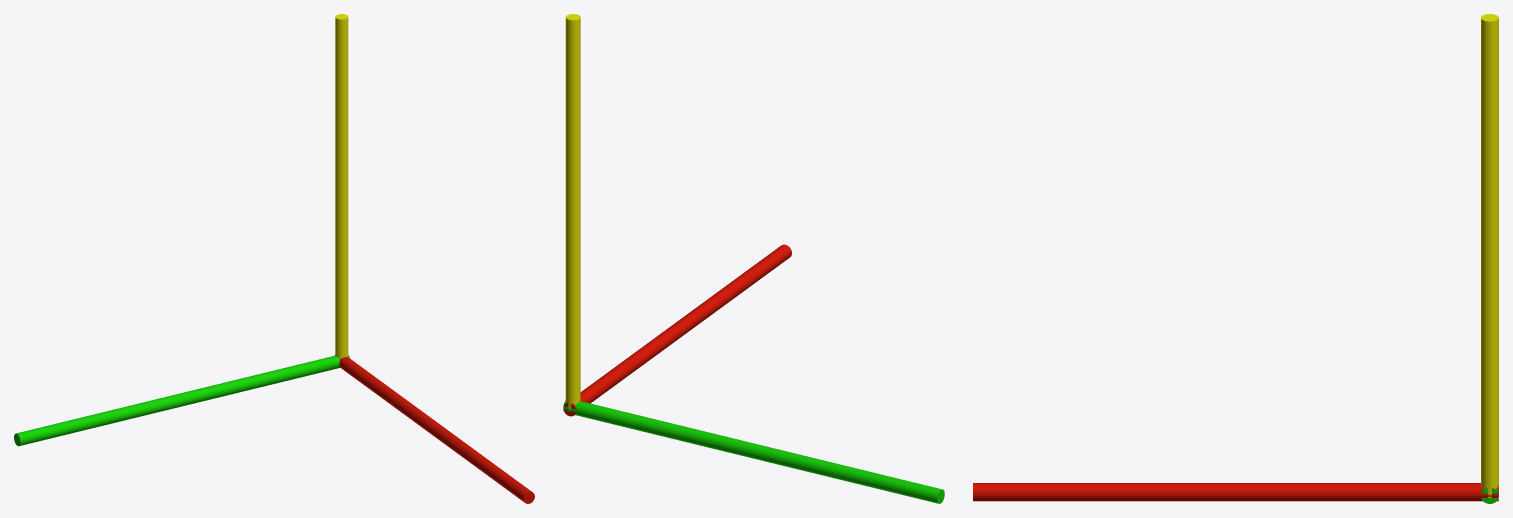
The model's file is 3D_Orientation.fbx.
3 views of the same model, side by side, from view 1: azimuth 30°, elevation 25°; view 2: azimuth 150°, elevation 25°; view 3: azimuth 270°, elevation 25° (orthographic). The views are drawn at different scales.
Parts seen in each view (by area): view 1: Cylinder, Cylinder.001, Cylinder.002; view 2: Cylinder, Cylinder.001, Cylinder.002; view 3: Cylinder.002, Cylinder.
Part boxes in pixels (<box>): Cylinder: <box>335,14,348,358</box>; Cylinder.001: <box>14,355,349,446</box>; Cylinder.002: <box>334,355,534,503</box>; Cylinder: <box>565,14,580,411</box>; Cylinder.001: <box>563,400,944,503</box>; Cylinder.002: <box>563,244,791,416</box>; Cylinder.002: <box>973,483,1498,501</box>; Cylinder: <box>1481,14,1498,497</box>.
Size of the model in its own units: 678 by 686 by 678.
